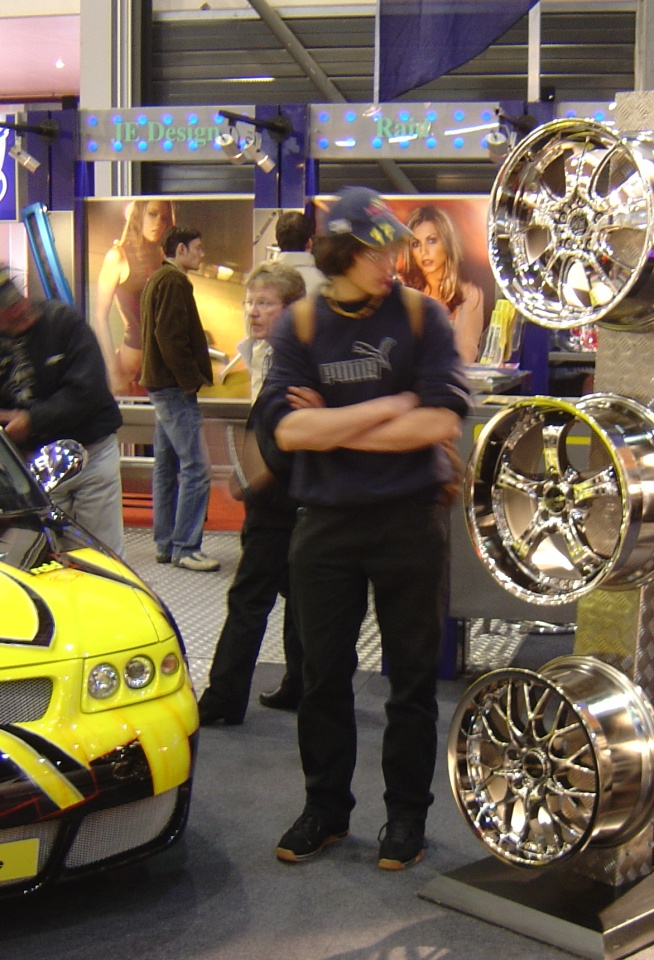person: (263, 184, 454, 869)
